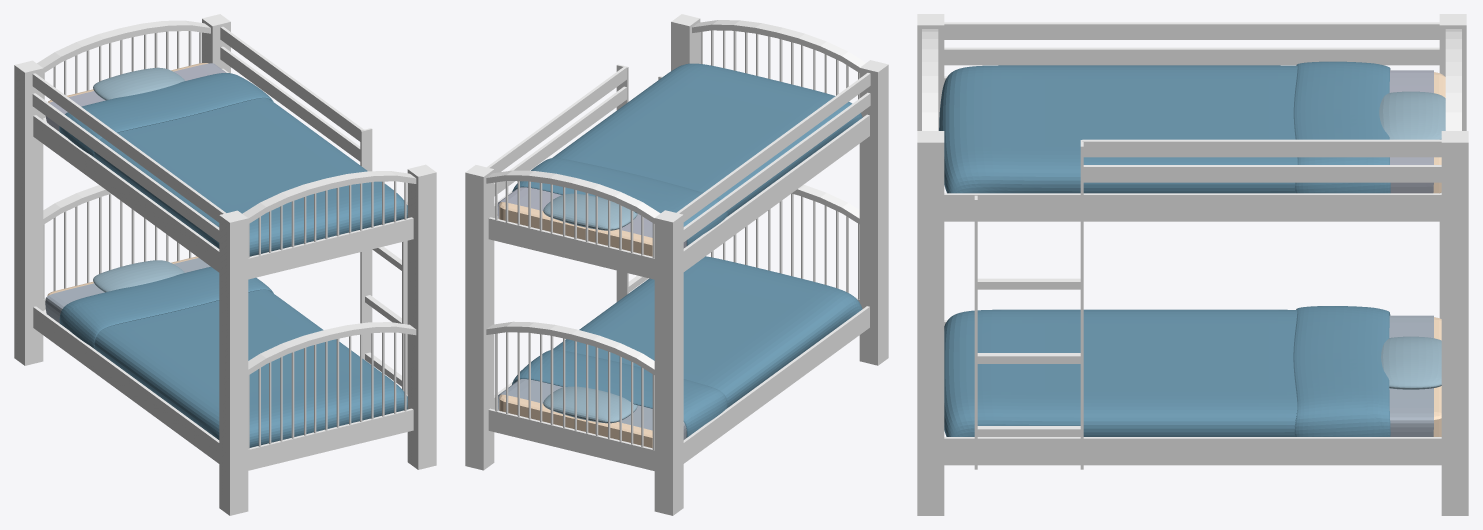
File: bunkBed.obj
3 views of the same model, side by side, from view 1: azimuth 30°, elevation 25°; view 2: azimuth 150°, elevation 25°; view 3: azimuth 270°, elevation 25° (orthographic). The views are drawn at different scales.
Parts seen in each view (by area): view 1: Plane.002, Plane.000, Cube.001_Cube.002, Cube_Cube.001, Cube.002_Cube.003, Cube.005_Cube.006, Cube.010_Cube.011, Cube.006_Cube.007, Cube.009_Cube.010, Cube.053_Cube.056, Cube.054_Cube.057, Cube.017_Cube.019 (+12 smaller); view 2: Plane.002, Plane.000, Cube.002_Cube.003, Cube.003_Cube.004, Cube.001_Cube.002, Cube.005_Cube.006, Cube.010_Cube.011, Cube.008_Cube.009, Cube.007_Cube.008, Cube.053_Cube.056, Cube.054_Cube.057, Cube.056_Cube.059 (+13 smaller); view 3: Plane.002, Plane.000, Cube.011_Cube.012, Cube.004_Cube.005, Cube.003_Cube.004, Cube_Cube.001, Cube.054_Cube.057, Cube.053_Cube.056, Cube.017_Cube.019, Cube.016_Cube.018, Plane.004_Plane.005, Cube.057_Cube.037 (+11 smaller).
Part boxes in pixels (x1,y1,x2,y2): Plane.002: (59, 266, 407, 447); Plane.000: (59, 73, 407, 256); Cube.001_Cube.002: (219, 210, 248, 515); Cube_Cube.001: (407, 164, 436, 469); Cube.002_Cube.003: (14, 60, 43, 365); Cube.005_Cube.006: (33, 306, 219, 463); Cube.010_Cube.011: (33, 115, 219, 272); Cube.006_Cube.007: (248, 408, 413, 470); Cube.009_Cube.010: (248, 217, 413, 279); Cube.053_Cube.056: (32, 73, 226, 222); Cube.054_Cube.057: (32, 93, 219, 242); Cube.017_Cube.019: (220, 26, 363, 141); Plane.002: (512, 256, 862, 437); Plane.000: (512, 63, 862, 245); Cube.002_Cube.003: (654, 210, 683, 515); Cube.003_Cube.004: (465, 165, 494, 470); Cube.001_Cube.002: (859, 60, 888, 365); Cube.005_Cube.006: (683, 306, 869, 463); Cube.010_Cube.011: (683, 114, 869, 271); Cube.008_Cube.009: (488, 217, 654, 279); Cube.007_Cube.008: (488, 408, 654, 470); Cube.053_Cube.056: (676, 73, 870, 221); Cube.054_Cube.057: (683, 92, 870, 241); Cube.056_Cube.059: (499, 202, 652, 256); Plane.002: (944, 306, 1390, 436); Plane.000: (939, 61, 1390, 193); Cube.011_Cube.012: (944, 193, 1441, 221); Cube.004_Cube.005: (944, 437, 1441, 465); Cube.003_Cube.004: (1441, 131, 1468, 515); Cube_Cube.001: (917, 131, 944, 515); Cube.054_Cube.057: (944, 47, 1439, 65); Cube.053_Cube.056: (944, 22, 1439, 39); Cube.017_Cube.019: (1082, 139, 1441, 157); Cube.016_Cube.018: (1083, 165, 1441, 182); Plane.004_Plane.005: (1389, 315, 1433, 436); Cube.057_Cube.037: (1381, 336, 1441, 389).
Bounding box in the file's own units: 113 × 160 × 205.
